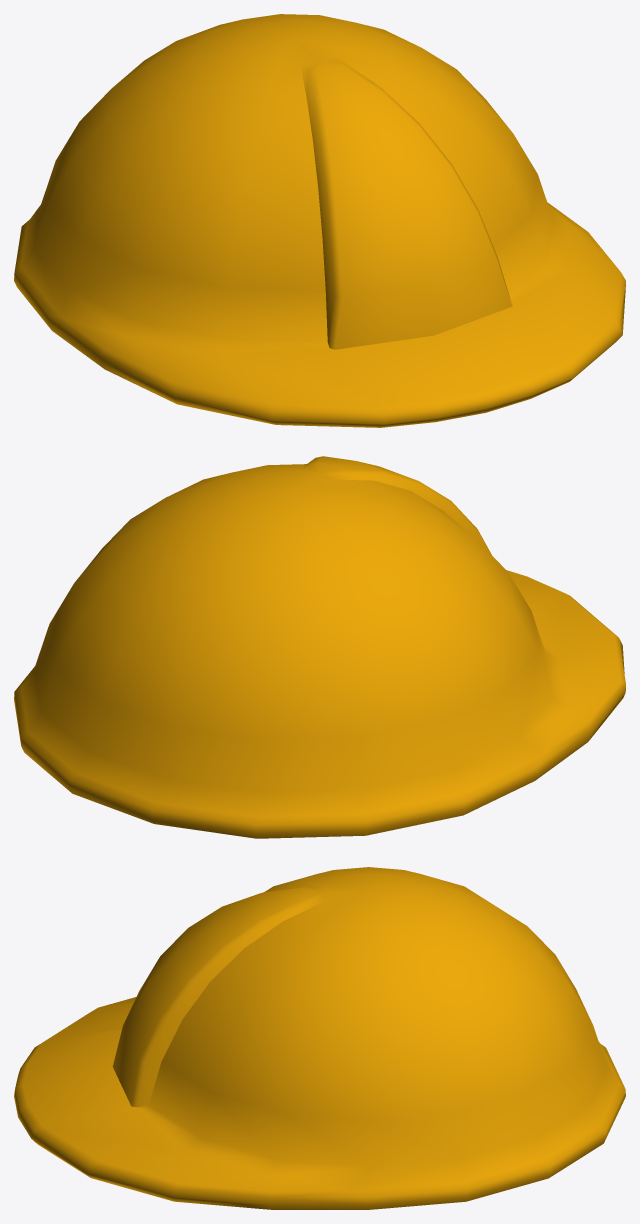
File: Hardhat.fbx
3 views of the same model, one above another, from view 1: azimuth 30°, elevation 25°; view 2: azimuth 150°, elevation 25°; view 3: azimuth 270°, elevation 25° (orthographic). The views are drawn at different scales.
Parts seen in each view (by area): view 1: Hardhat; view 2: Hardhat; view 3: Hardhat.
Part boxes in pixels (<box>): Hardhat: <box>14,14,625,427</box>; Hardhat: <box>14,456,625,838</box>; Hardhat: <box>14,867,625,1209</box>.
Size of the model in its own units: 212 by 96.66 by 252.
